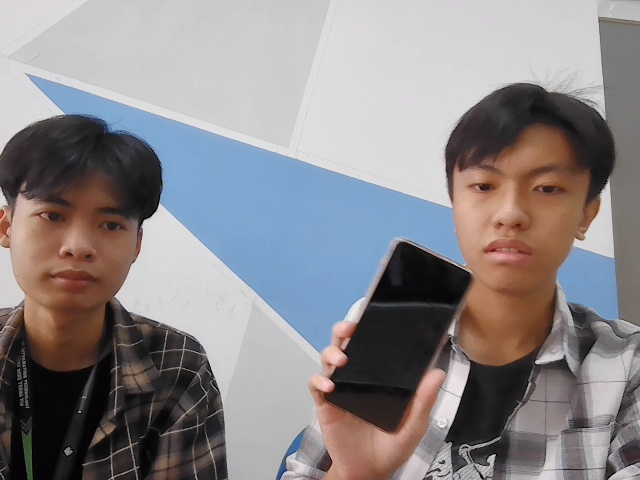human: (445, 78, 613, 297), (1, 106, 167, 319)
phone: (326, 230, 469, 433)
